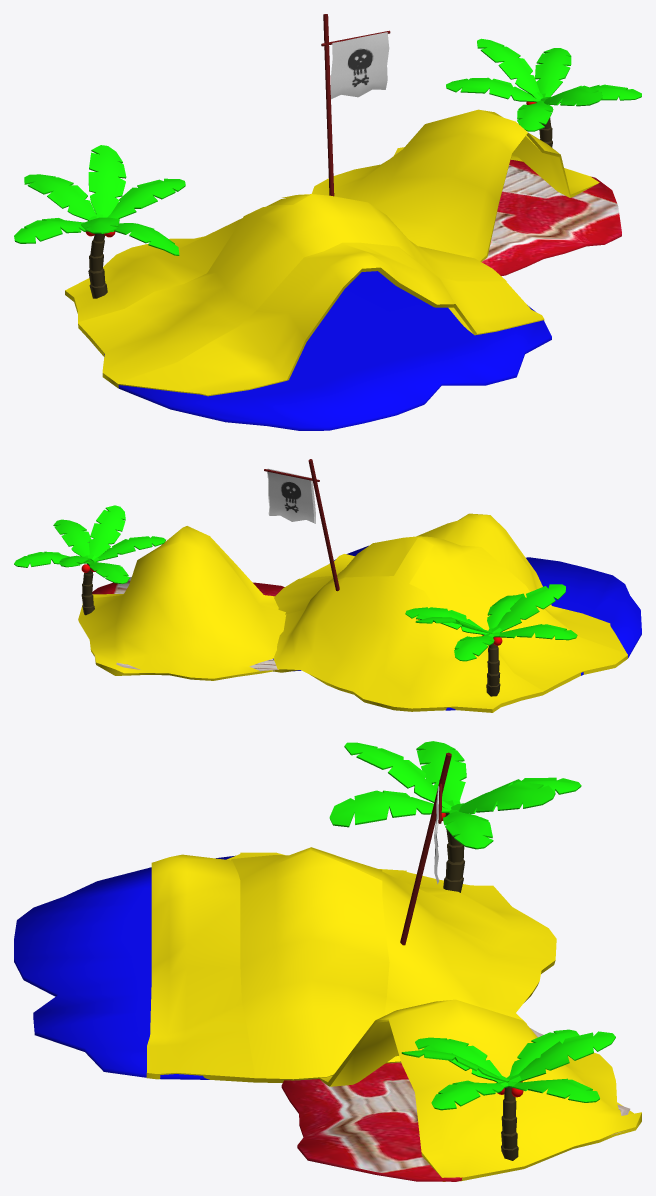
Rendered from PirateIsland.FBX.
The picture shows the model from 3 angles, top to bottom: view 1: azimuth 30°, elevation 25°; view 2: azimuth 150°, elevation 25°; view 3: azimuth 270°, elevation 25°; orthographic projection. The views are drawn at different scales.
Visible parts, largest first — view 1: PirateIslandToy, PirateIslandToyColider; view 2: PirateIslandToy, PirateIslandToyColider; view 3: PirateIslandToy, PirateIslandToyColider.
Boxes of the visible parts, left/top/right/bottom form: PirateIslandToy: left=14, top=14, right=641, bottom=430; PirateIslandToyColider: left=78, top=194, right=506, bottom=382; PirateIslandToy: left=14, top=459, right=641, bottom=712; PirateIslandToyColider: left=274, top=536, right=627, bottom=690; PirateIslandToy: left=14, top=741, right=641, bottom=1181; PirateIslandToyColider: left=231, top=847, right=406, bottom=1077.
Size of the model in its own units: 15.87 by 5.8 by 11.79.
